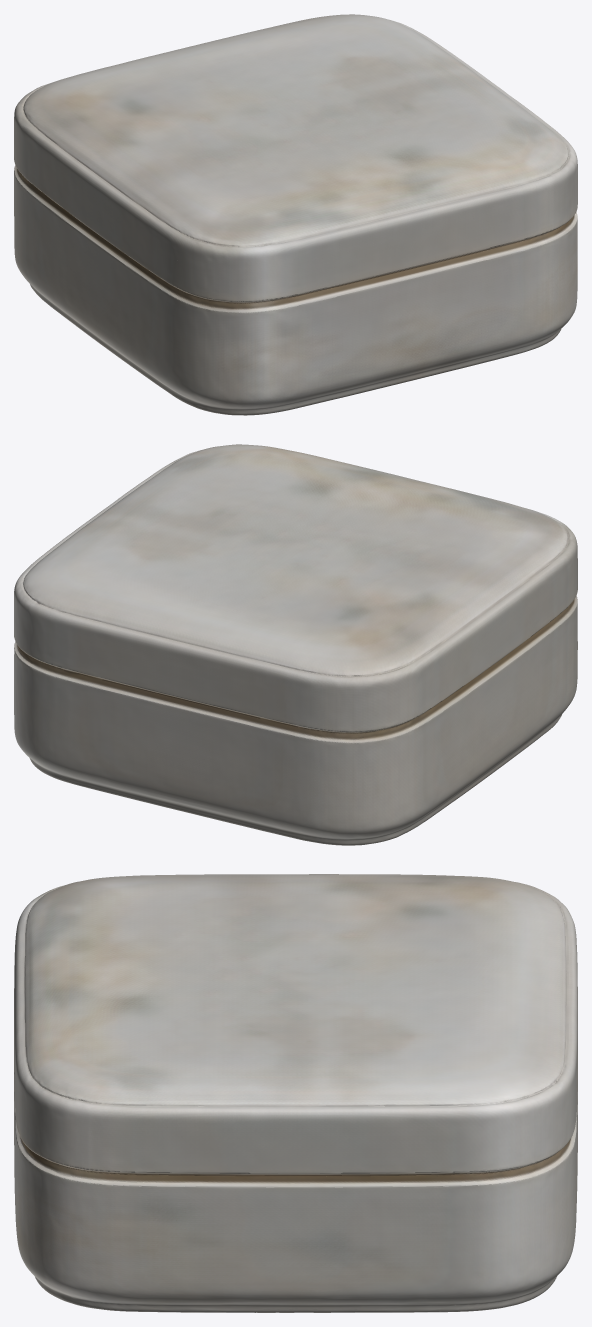
Rendered from ad4aff1c-d14a-4955-9511-a7f85a52bed2-base_basic_pbr.glb.
3 renders of one model, top to bottom at view 1: azimuth 30°, elevation 25°; view 2: azimuth 150°, elevation 25°; view 3: azimuth 270°, elevation 25°, orthographic. The views are drawn at different scales.
Visible parts, largest first — view 1: model; view 2: model; view 3: model.
Part boxes in pixels (bbox=[...]): model: bbox=[14, 14, 577, 415]; model: bbox=[14, 444, 577, 845]; model: bbox=[14, 874, 577, 1312].
Bounding box in the file's own units: 1.9 × 0.8401 × 1.9.
1 material, 1 textured.
